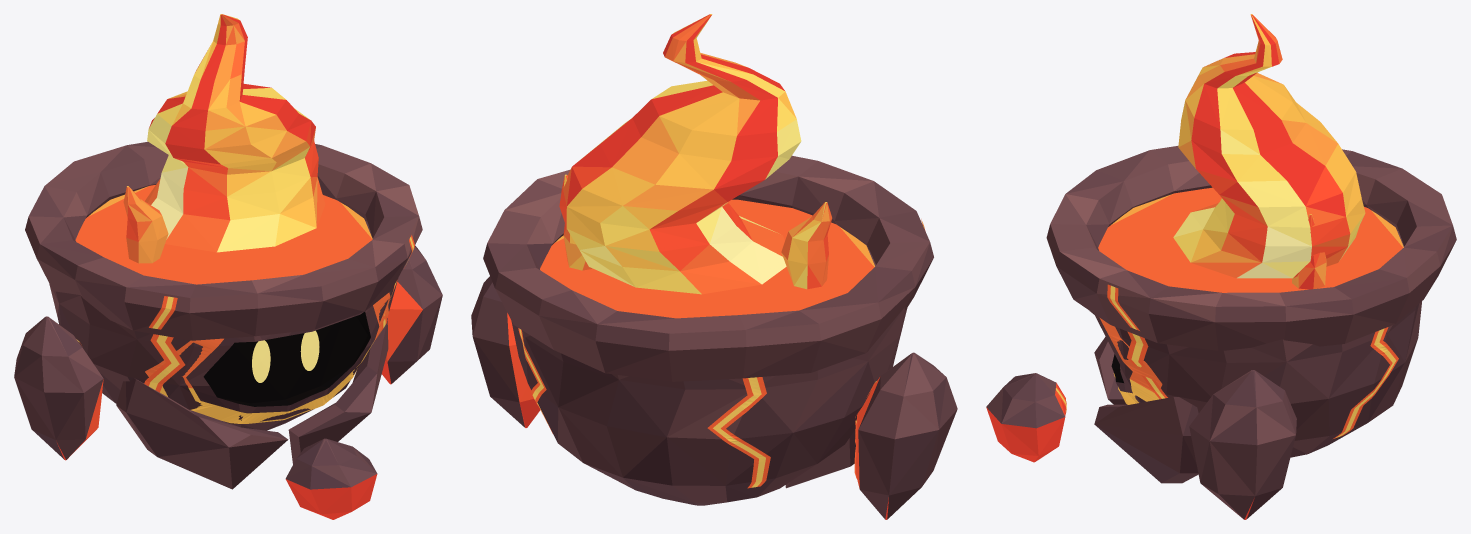
The model's file is hearth-spirit.glb.
3 views of the same model, side by side, from view 1: azimuth 30°, elevation 25°; view 2: azimuth 150°, elevation 25°; view 3: azimuth 270°, elevation 25° (orthographic). The views are drawn at different scales.
Parts seen in each view (by area): view 1: HearthBody, FlameCore, Support.L, Support.Front, Support.R, Eye.L, Eye.R; view 2: HearthBody, FlameCore, Support.L, Support.R; view 3: HearthBody, FlameCore, Support.R, Support.Front.
Boxes of the visible parts, x1=… form: HearthBody: x1=25, y1=141, x2=422, y2=489; FlameCore: x1=123, y1=14, x2=325, y2=263; Support.L: x1=14, y1=316, x2=103, y2=460; Support.Front: x1=285, y1=438, x2=377, y2=519; Support.R: x1=382, y1=245, x2=442, y2=384; Eye.L: x1=252, y1=340, x2=270, y2=382; Eye.R: x1=300, y1=330, x2=319, y2=370; HearthBody: x1=483, y1=155, x2=933, y2=505; FlameCore: x1=559, y1=14, x2=832, y2=294; Support.L: x1=854, y1=352, x2=957, y2=519; Support.R: x1=471, y1=276, x2=540, y2=427; HearthBody: x1=1046, y1=146, x2=1456, y2=483; FlameCore: x1=1173, y1=14, x2=1365, y2=289; Support.R: x1=1189, y1=370, x2=1296, y2=519; Support.Front: x1=986, y1=373, x2=1066, y2=462.
Size of the model in its own units: 0.7952 by 0.8 by 0.7591.
